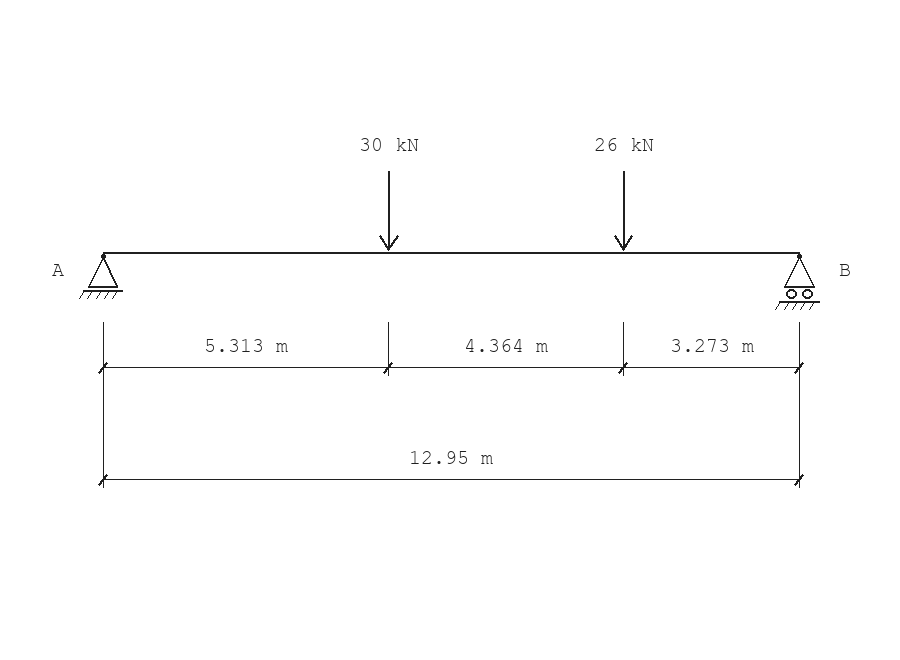pin_support: (79, 254, 123, 299)
point_load: (379, 171, 399, 251), (614, 171, 633, 251)
roller_support: (775, 254, 820, 310)
